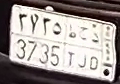3: (14, 11, 28, 61), (39, 16, 51, 65)
5: (50, 19, 63, 67)
7: (26, 11, 40, 62)
D: (89, 30, 100, 71)
J: (76, 25, 90, 68)
T: (66, 21, 77, 68)
